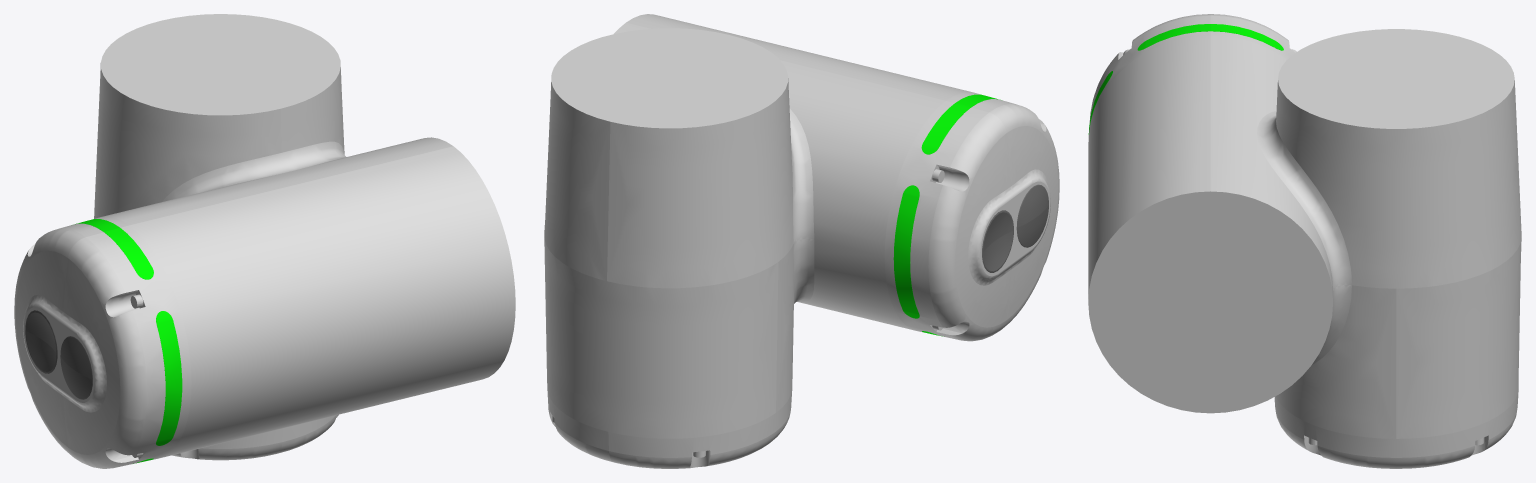
3 renders of one model, left to right at view 1: azimuth 30°, elevation 25°; view 2: azimuth 150°, elevation 25°; view 3: azimuth 270°, elevation 25°, orthographic.
Visible parts, largest first — view 1: LINK05-node-0; view 2: LINK05-node-0; view 3: LINK05-node-0.
Boxes of the visible parts, left/top/right/bottom form: LINK05-node-0: left=14, top=14, right=515, bottom=468; LINK05-node-0: left=544, top=14, right=1059, bottom=468; LINK05-node-0: left=1088, top=14, right=1521, bottom=468.
Bounding box in the file's own units: 0.1954 × 0.168 × 0.1868.
